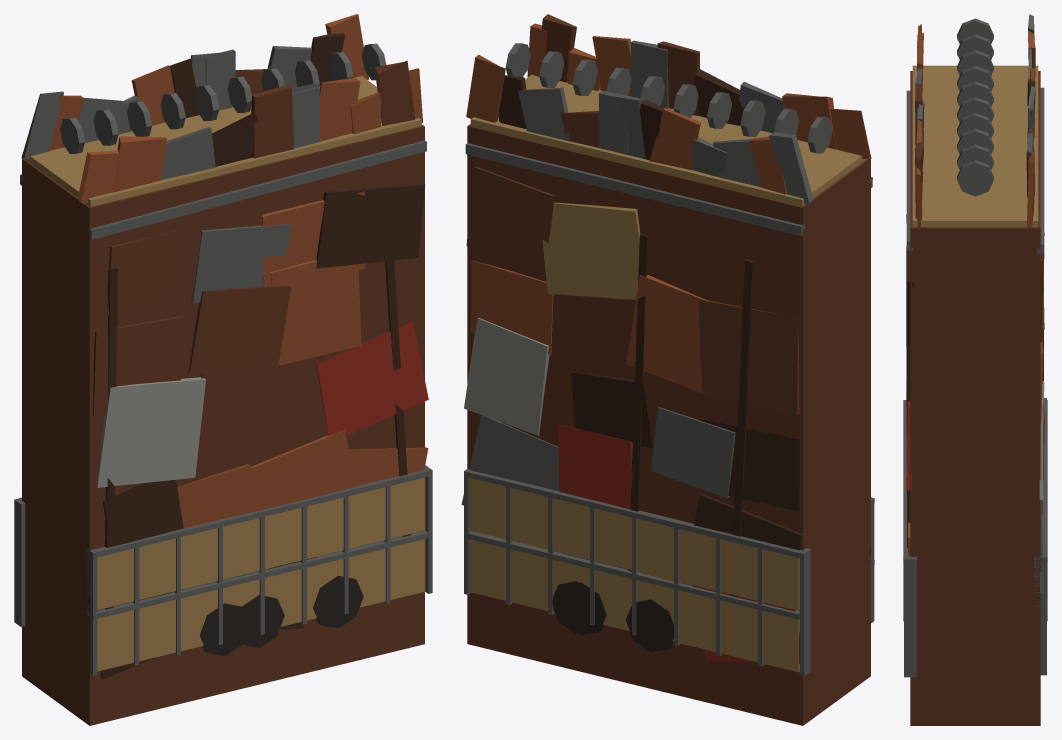
Rendered from fort_scrap_wall.glb.
The picture shows the model from 3 angles, left to right: view 1: azimuth 30°, elevation 25°; view 2: azimuth 150°, elevation 25°; view 3: azimuth 270°, elevation 25°; orthographic projection. The views are drawn at different scales.
Visible parts, largest first — view 1: fort_scrap_wall; view 2: fort_scrap_wall; view 3: fort_scrap_wall.
Boxes of the visible parts, x1,y1,x2,y2 form: fort_scrap_wall: (14, 14, 432, 725); fort_scrap_wall: (461, 14, 874, 725); fort_scrap_wall: (903, 14, 1047, 725).
Bounding box in the file's own units: 8.27 × 13.38 × 3.1.
